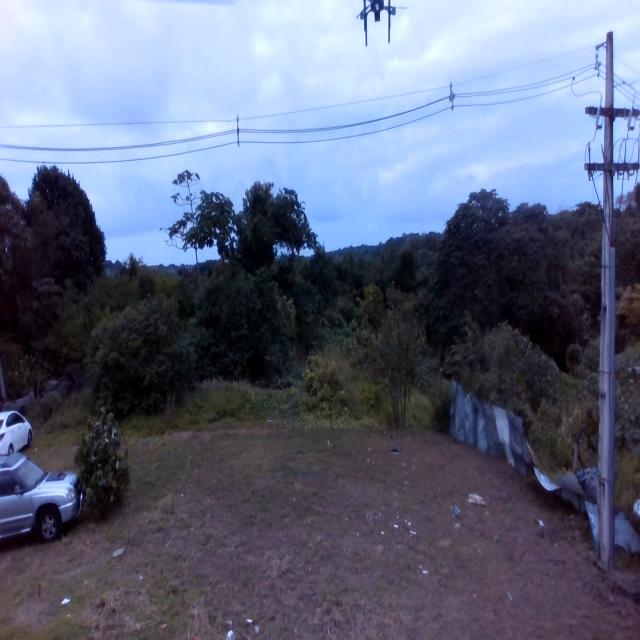-uav-: (357, 0, 399, 46)
